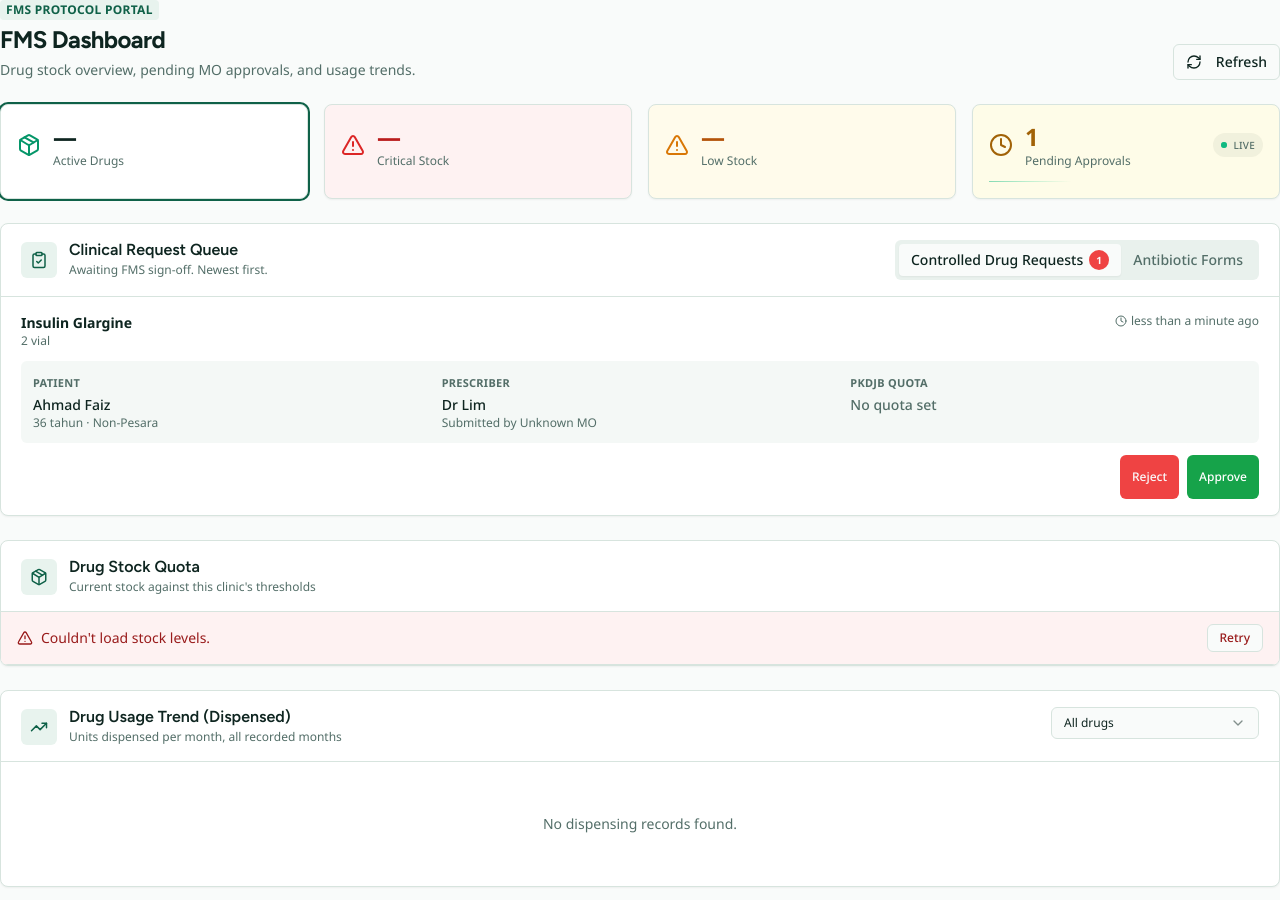
it: FmsDashboard failure handling › guards the approve write on status and reports a request someone else already actioned
Click the button "Approve" at (1223, 477), box left=1187, top=455, right=1259, bottom=499
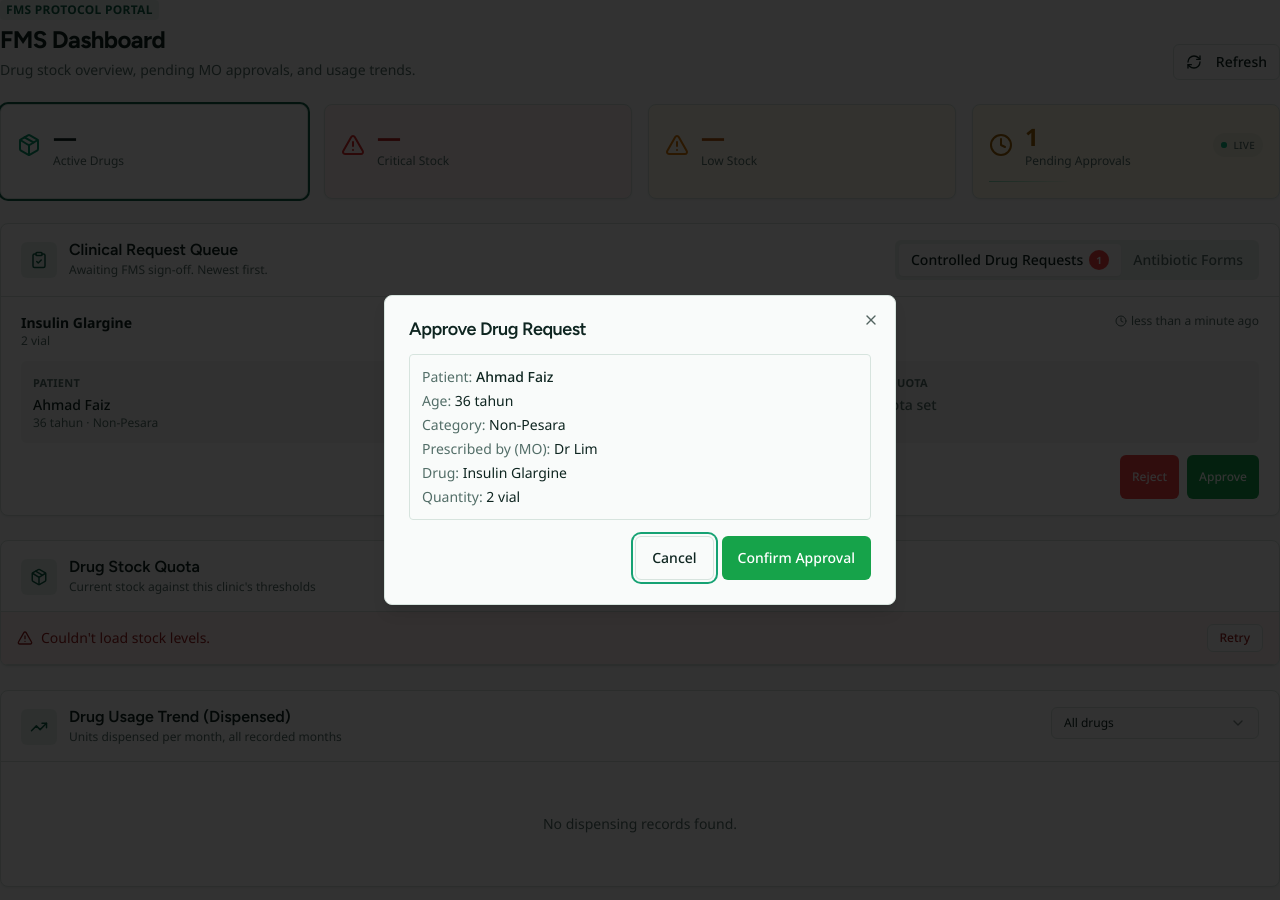
Click the button "Confirm Approval" at (796, 558), box left=722, top=536, right=871, bottom=580
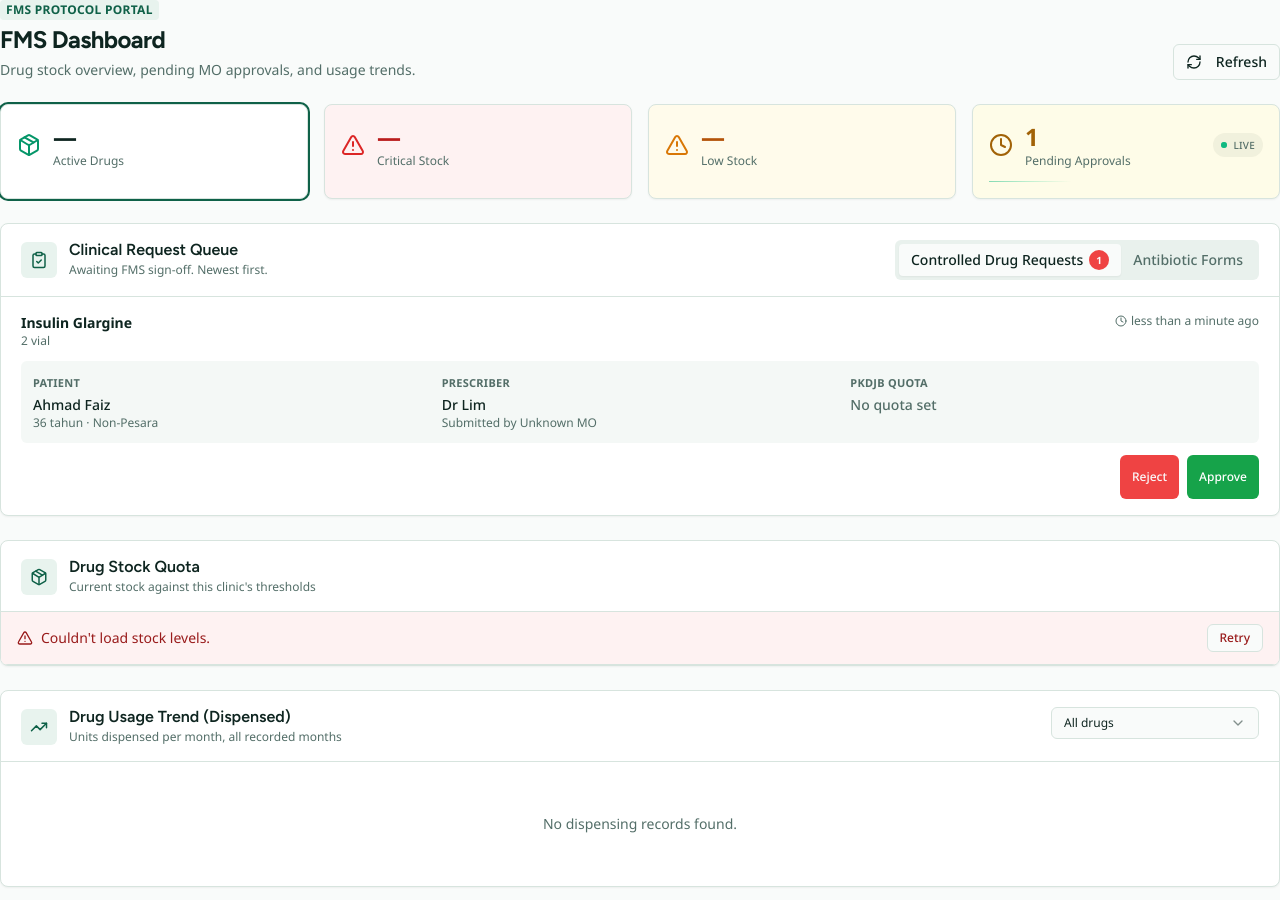
Expected: the heading "Approve Drug Request" is gone
